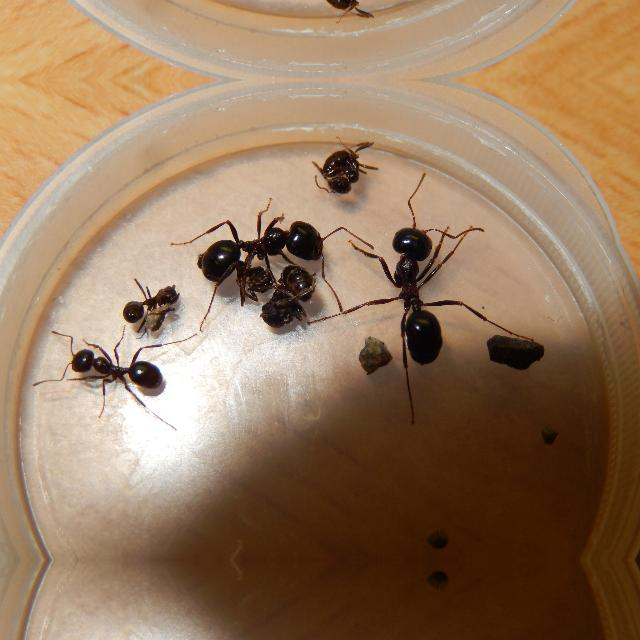Messor: (177, 183, 335, 293), (375, 208, 477, 374), (51, 330, 170, 406), (316, 134, 378, 202), (112, 280, 178, 324), (316, 0, 377, 25)
